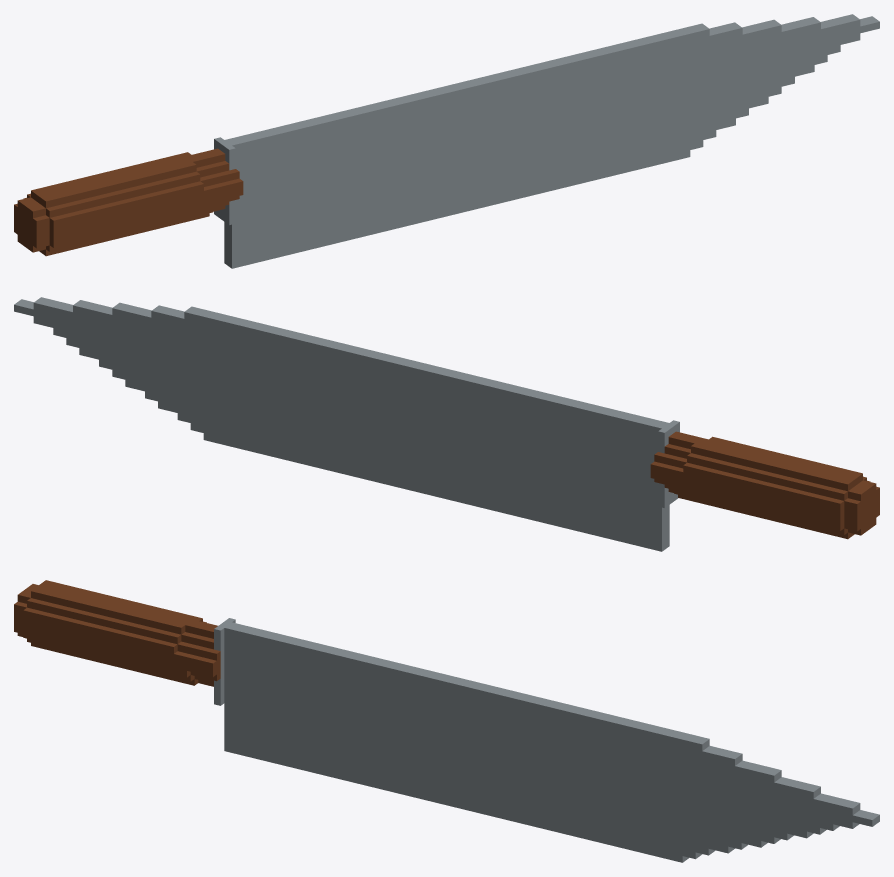
The model's file is machete.glb.
3 renders of one model, top to bottom at view 1: azimuth 30°, elevation 25°; view 2: azimuth 150°, elevation 25°; view 3: azimuth 330°, elevation 25°, orthographic.
Visible parts, largest first — view 1: machete:knife; view 2: machete:knife; view 3: machete:knife.
Part boxes in pixels (left/top/right/bottom): machete:knife: left=14, top=14, right=879, bottom=268; machete:knife: left=14, top=297, right=879, bottom=551; machete:knife: left=14, top=580, right=879, bottom=862.
Size of the model in its own units: 0.52 by 0.072 by 0.032.
